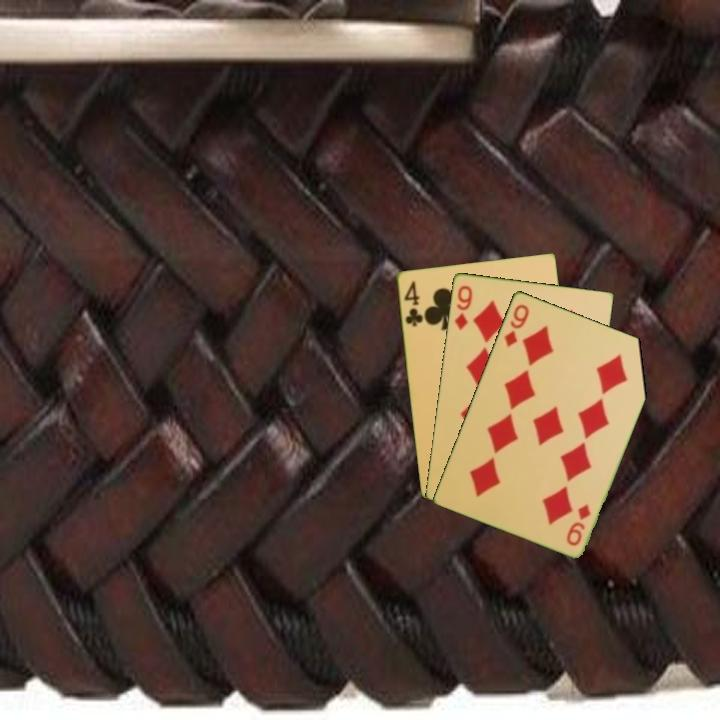4c: (400, 277, 425, 329)
9d: (500, 300, 532, 349), (563, 500, 593, 548), (451, 281, 475, 333)
